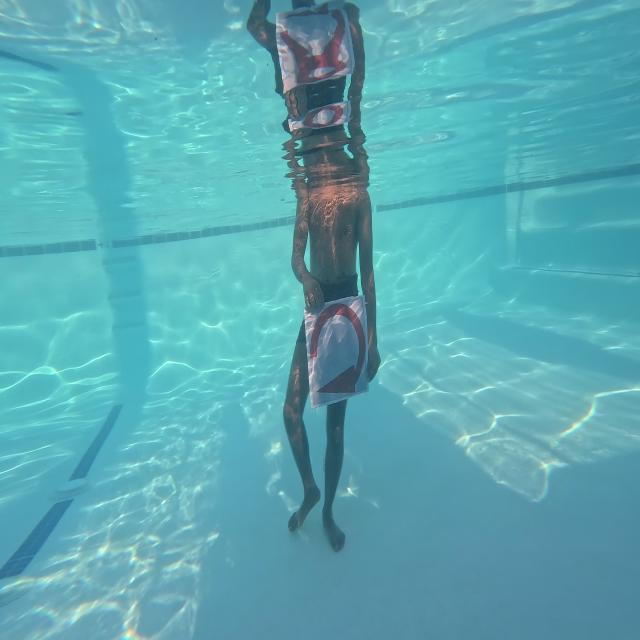red_side: (309, 295, 368, 409)
